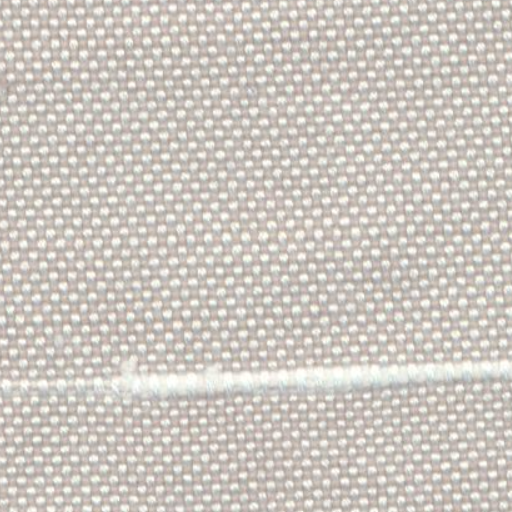DaiSha: (24, 347, 506, 412)
